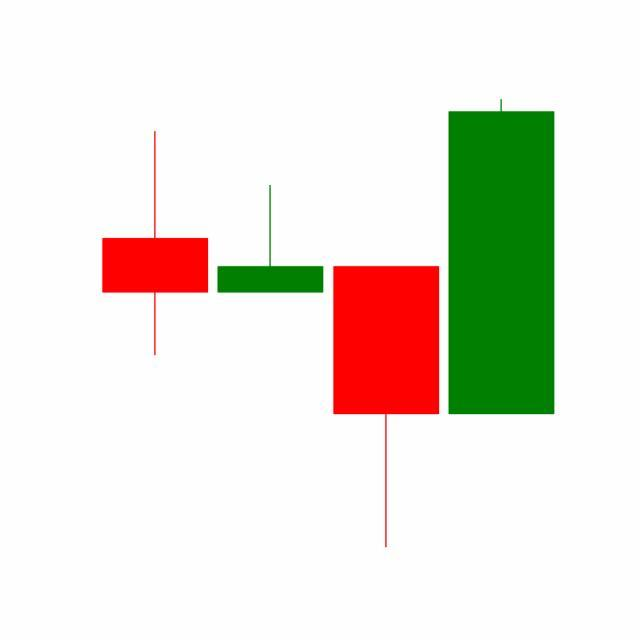Marubozu: (444, 96, 560, 418)
